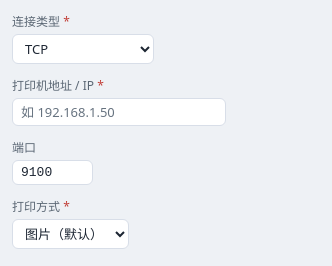
Test: TransportPluginParamsEditor 字段集联动（按连接类型显隐） › 切换 kind=Usb：只显示 USB 名（可空自动发现），主机 / 端口 / 打印机名隐藏
The width and height of the screenshot is (332, 266).
Select "USB（自动发现）" in the dropdown labelled "连接类型 *" at (83, 49), box [12,34,154,64]
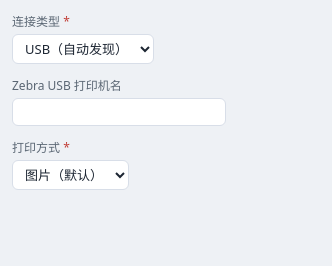
Expected: the text "Zebra USB 打印机名" is shown once, [12,77,122,94]
Expected: the text "打印机地址 / IP" is not shown
Expected: the text "端口" is not shown
